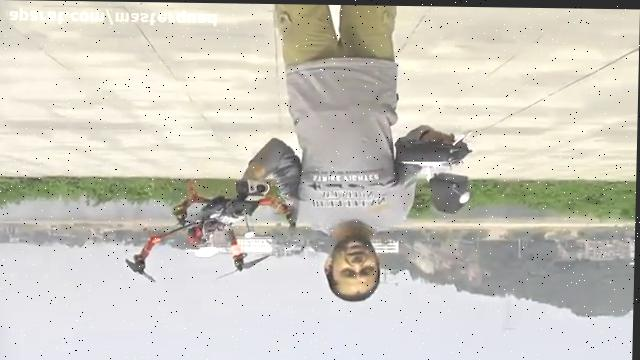drone: (122, 167, 302, 286)
